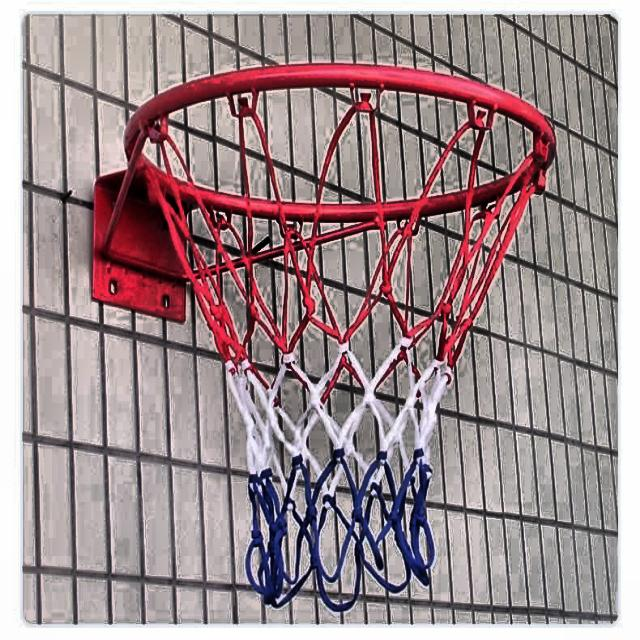rim: (128, 64, 557, 606)
